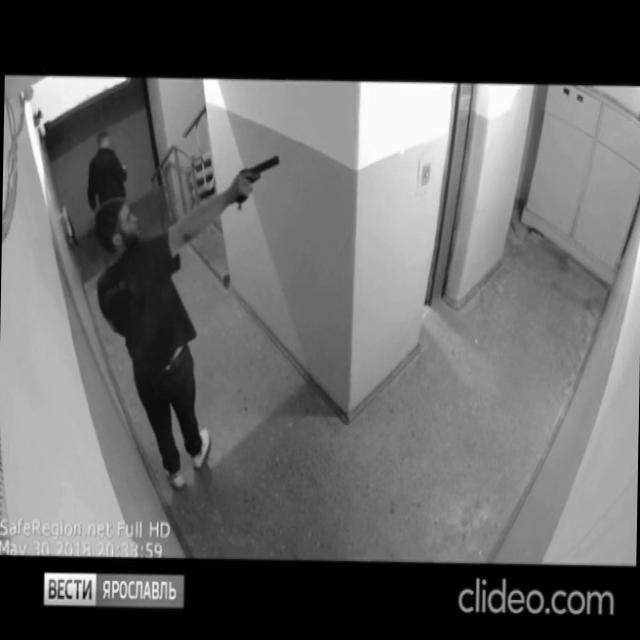gun: (234, 152, 280, 208)
person: (85, 130, 132, 258)
person with a gun: (88, 150, 282, 494)
